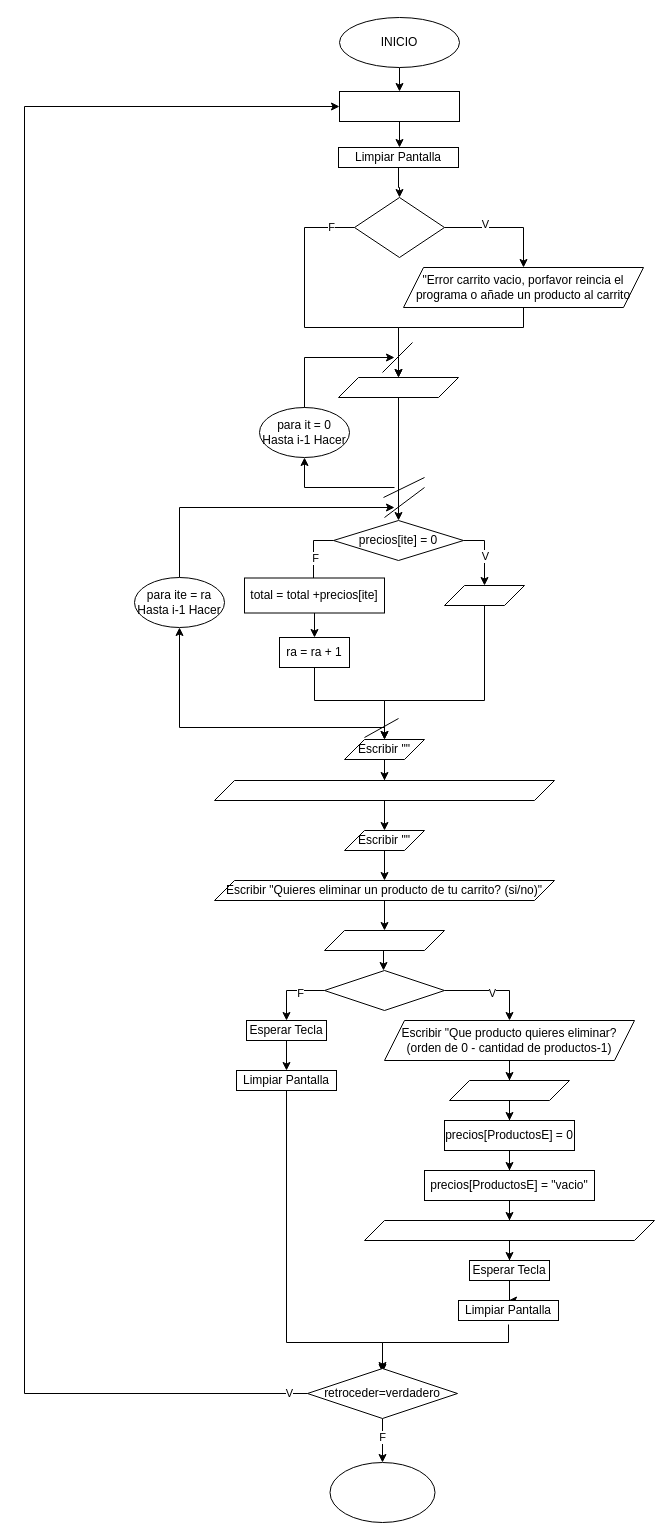
Image size: 672x1540. Some labels were removed from this diagram. The shapes that lost their labels are listed below. From the top down, each one's centre as x and y in pixels, then its label:
[399,106]: codigo anterior...
[399,227]: precios[0]=0
[398,387]: Escribir carrito[it]
[484,595]: "Vacio"
[384,790]: Escribir "El total del carrito es : " + ConvertirATexto(total)
[384,940]: Leer respuesta
[384,990]: respuesta = "si"
[509,1090]: Leer ProductoE
[509,1230]: Escribir "Producto eliminado con exito del carrito
[382,1492]: FIN
